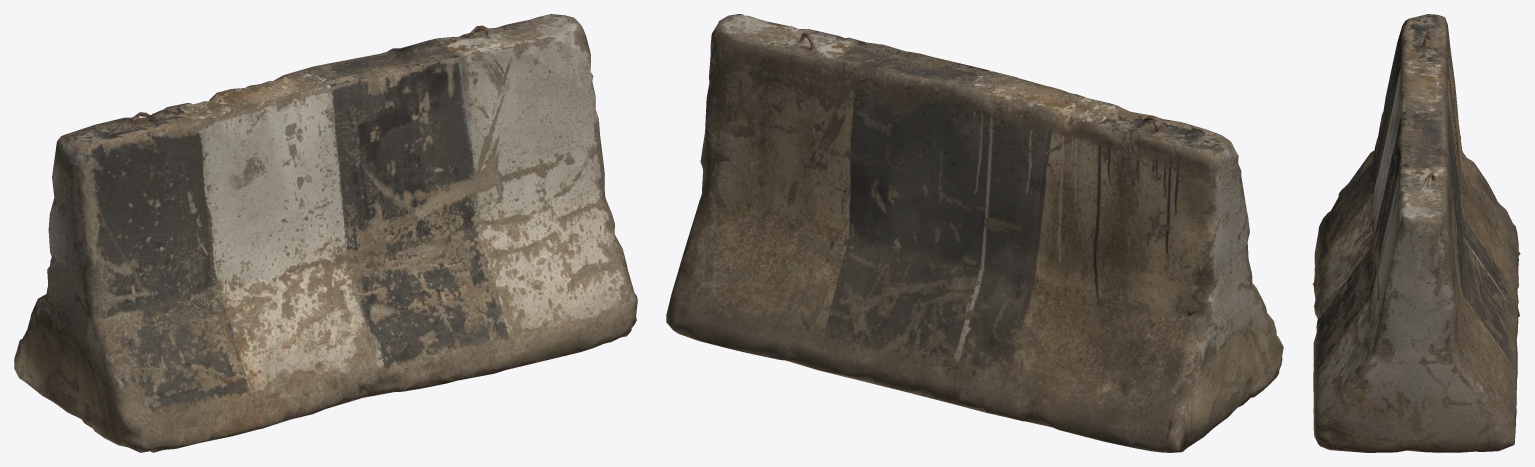
File: concrete_road_barrier.glb
3 views of the same model, side by side, from view 1: azimuth 30°, elevation 25°; view 2: azimuth 150°, elevation 25°; view 3: azimuth 270°, elevation 25° (orthographic). The views are drawn at different scales.
Parts seen in each view (by area): view 1: concrete_road_barrier; view 2: concrete_road_barrier; view 3: concrete_road_barrier.
Boxes of the visible parts, x1,y1,x2,y2 form: concrete_road_barrier: (14, 14, 637, 452); concrete_road_barrier: (666, 14, 1283, 452); concrete_road_barrier: (1312, 14, 1520, 452).
Size of the model in its own units: 1.54 by 0.8304 by 0.6387.
1 material, 1 textured.
